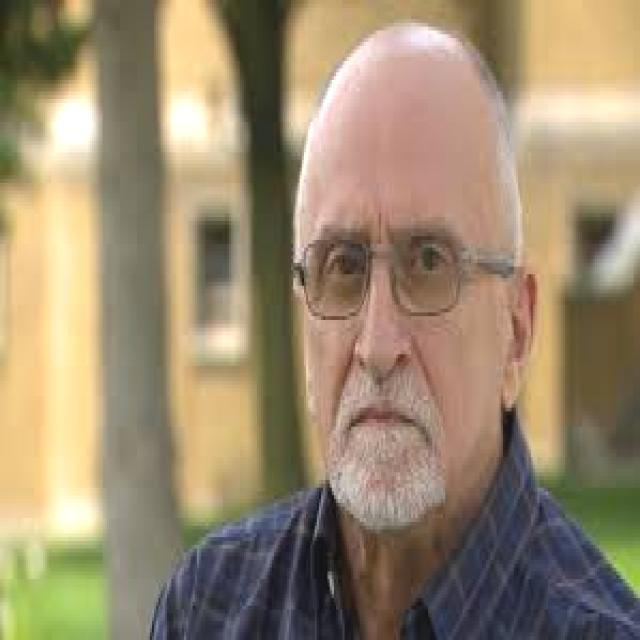normal_face: (295, 20, 538, 535)
